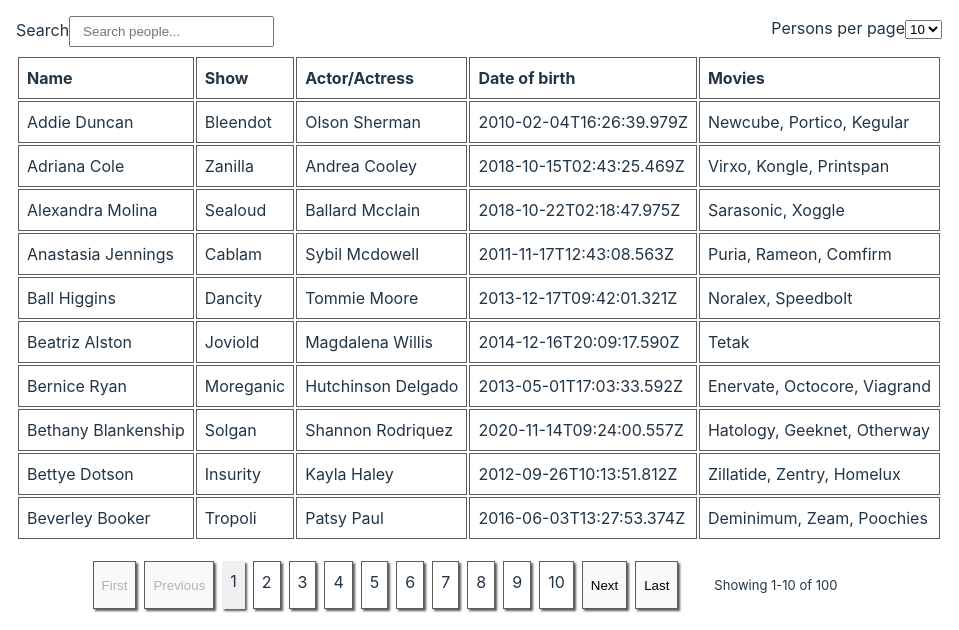
Test case: People › Filtering › should select the sort column
This screenshot has width=959, height=630.
Expected: the text "Addie Duncan" is shown, [18,101,194,143]
Click the column heading "Name" at [106, 78], box [18,57,194,99]
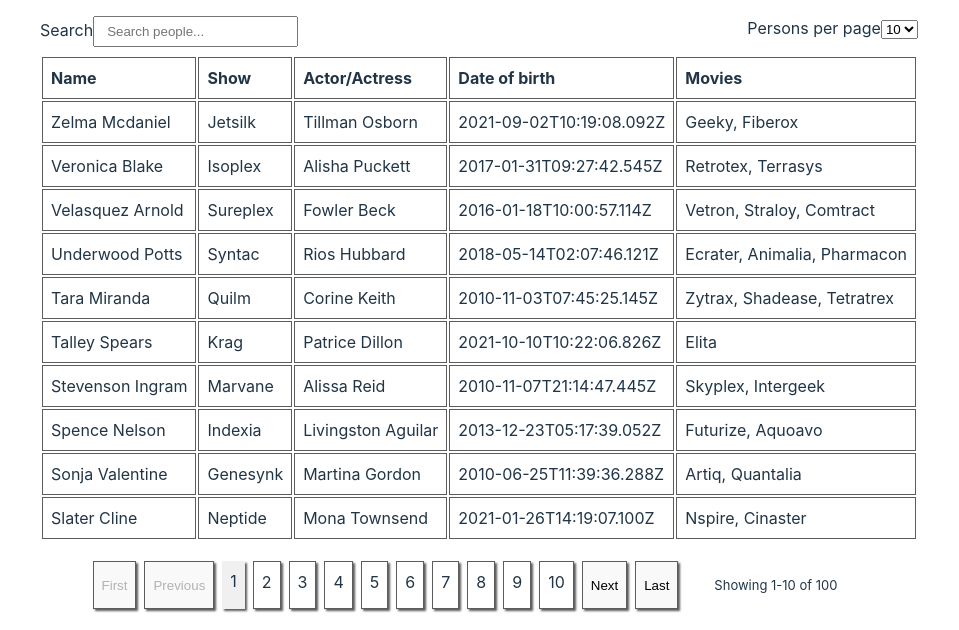
Expected: the text "Zelma Mcdaniel" is shown, [42,101,196,143]
